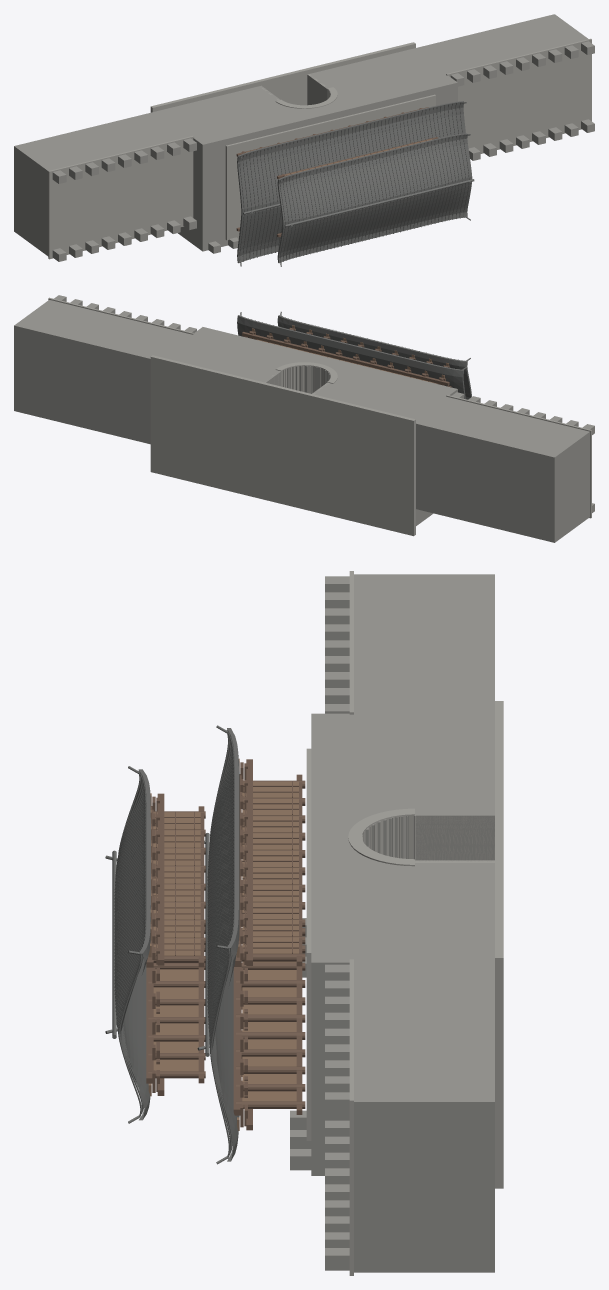
The model's file is SM_Zhengximen_LOD1.glb.
3 views of the same model, one above another, from view 1: azimuth 30°, elevation 25°; view 2: azimuth 150°, elevation 25°; view 3: azimuth 270°, elevation 25° (orthographic). The views are drawn at different scales.
Visible parts, largest first — view 1: GrayBrick, StoneFoundation, ClayRoofTile, DarkTimber; view 2: GrayBrick, StoneFoundation, ClayRoofTile, DarkTimber, AgedWood; view 3: GrayBrick, DarkTimber, ClayRoofTile, AgedWood, StoneFoundation.
Boxes of the visible parts, <box> form: GrayBrick: <box>14,14,594,261</box>; StoneFoundation: <box>48,38,591,259</box>; ClayRoofTile: <box>237,101,474,266</box>; DarkTimber: <box>236,107,438,237</box>; GrayBrick: <box>14,295,594,542</box>; StoneFoundation: <box>48,297,591,536</box>; ClayRoofTile: <box>237,311,471,399</box>; DarkTimber: <box>242,327,451,387</box>; AgedWood: <box>252,325,449,382</box>; GrayBrick: <box>290,574,494,1272</box>; DarkTimber: <box>146,759,305,1130</box>; ClayRoofTile: <box>105,725,239,1164</box>; AgedWood: <box>148,758,298,1130</box>; StoneFoundation: <box>306,571,503,1275</box>.
Bounding box in the file's own units: 53.2 × 10.8 × 16.9.
